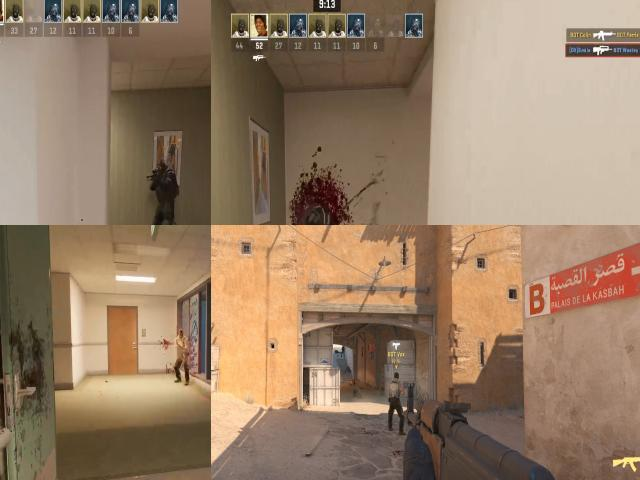CT: (153, 158, 173, 205), (341, 345, 346, 358)
CT-Head: (156, 158, 167, 176), (342, 346, 344, 348)
Dead: (307, 194, 343, 225), (353, 388, 361, 397), (345, 365, 353, 373), (349, 379, 357, 386), (334, 350, 342, 354)
T: (388, 371, 402, 433), (174, 330, 187, 378)
T-Head: (176, 326, 188, 343), (394, 372, 399, 381), (187, 323, 189, 326)
